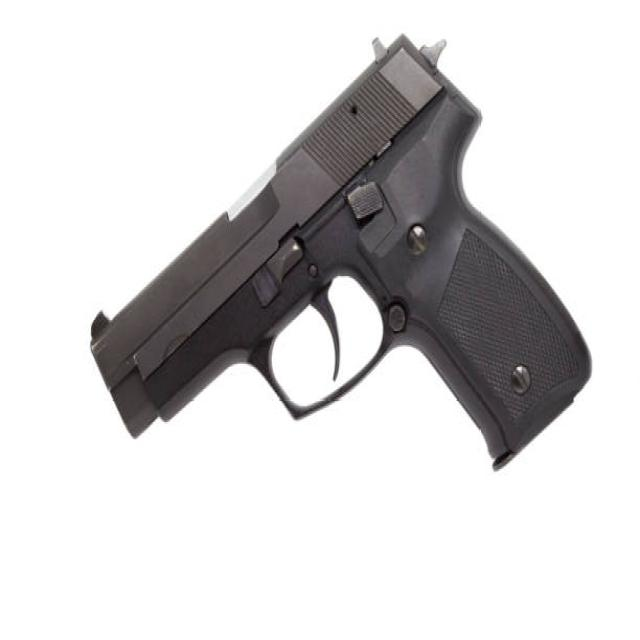pistol: (85, 24, 597, 483)
